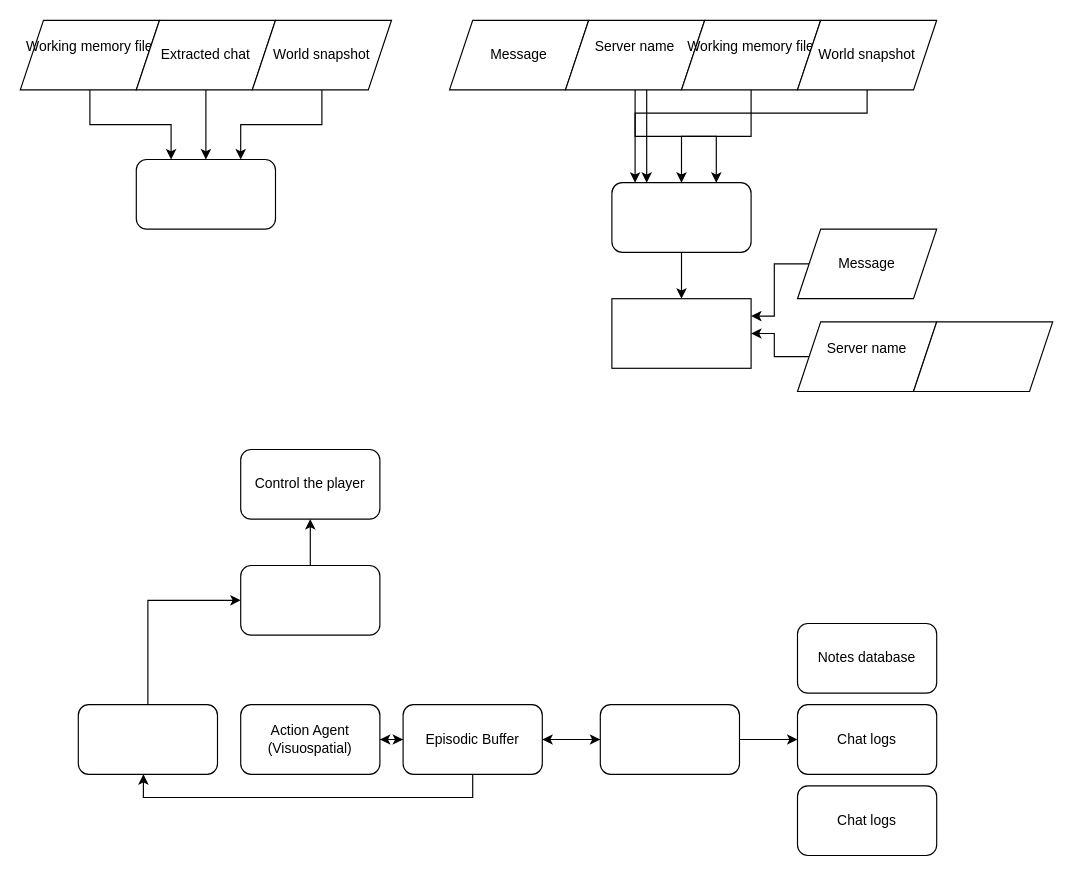
The diagram is 1073 pixels wide and 876 high, and some of its shapes have lost their labels. Here are the shapes that lost their labels. From the top down, the centre of each, then its label:
At [205,193]: "Propose new task".
At [681,217]: "On new chat message".
At [681,333]: "Append to file".
At [982,356]: ".txt".
At [310,599]: "Central executive agent".
At [147,739]: "Chat Agent (Phonological)".
At [669,739]: "Long term memory".
